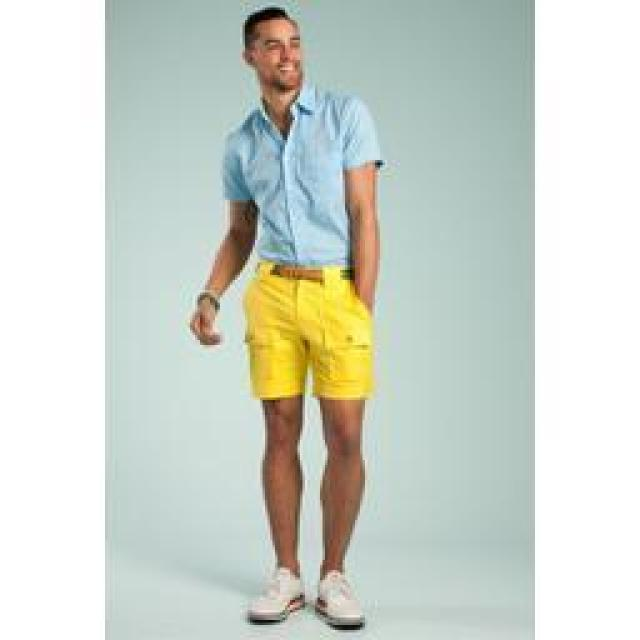shirt: (221, 81, 384, 264)
short: (243, 261, 375, 404)
